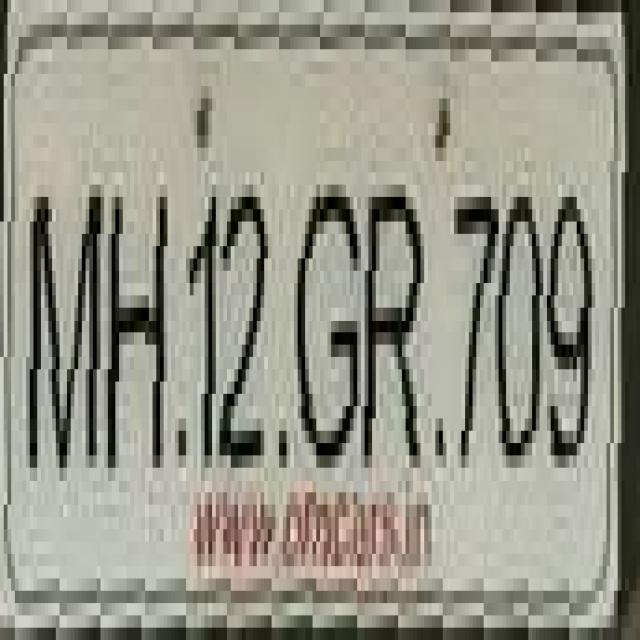license_plate: (0, 25, 614, 603)
